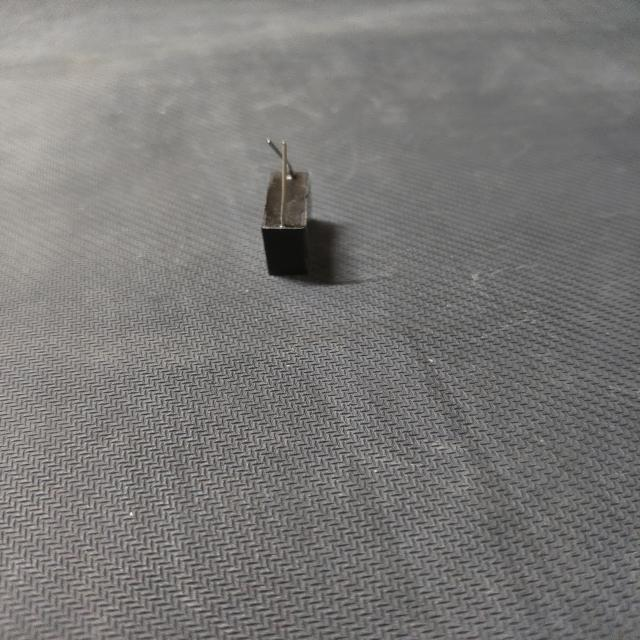capacitor: (235, 130, 328, 287)
